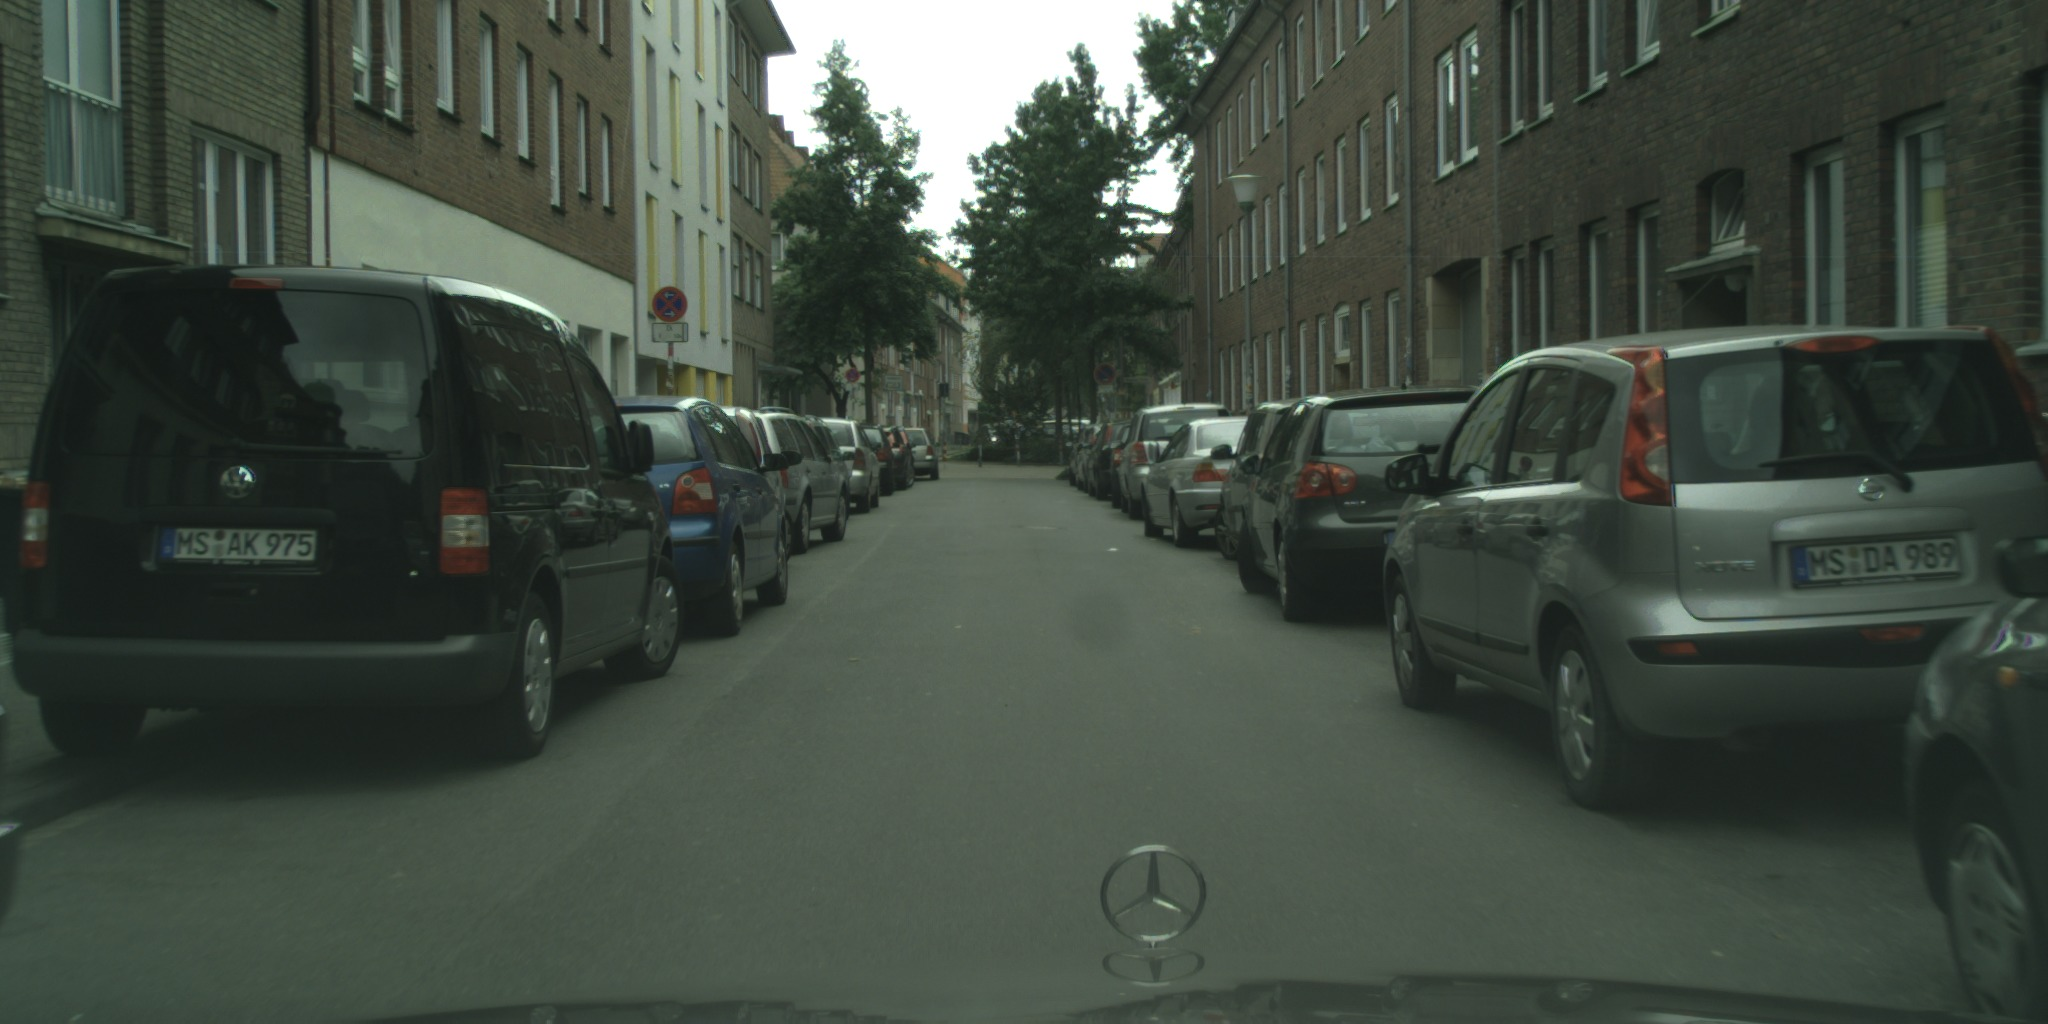car: (9, 263, 684, 758), (1381, 323, 2048, 812), (1899, 530, 2048, 1024), (1237, 384, 1497, 624), (596, 394, 790, 636), (1208, 396, 1347, 563), (1132, 415, 1255, 550), (1109, 401, 1238, 522), (744, 408, 849, 556), (700, 404, 803, 539), (690, 402, 782, 526), (792, 417, 882, 513), (781, 414, 854, 522), (1068, 418, 1138, 492), (1087, 415, 1139, 503), (1092, 421, 1142, 509), (841, 423, 899, 496), (1034, 417, 1104, 461), (967, 409, 1037, 451), (876, 427, 917, 488), (900, 424, 940, 481)
